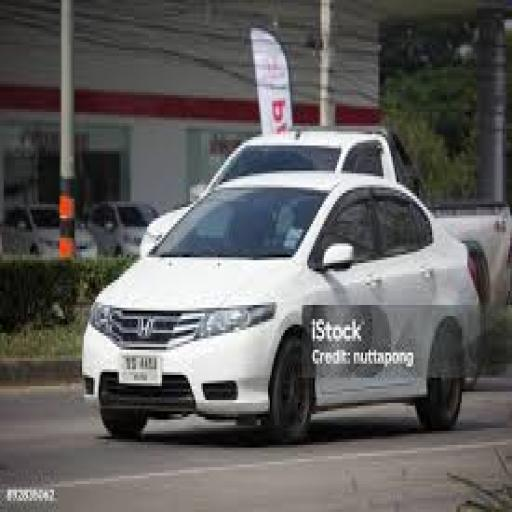License: (114, 345, 170, 390)
